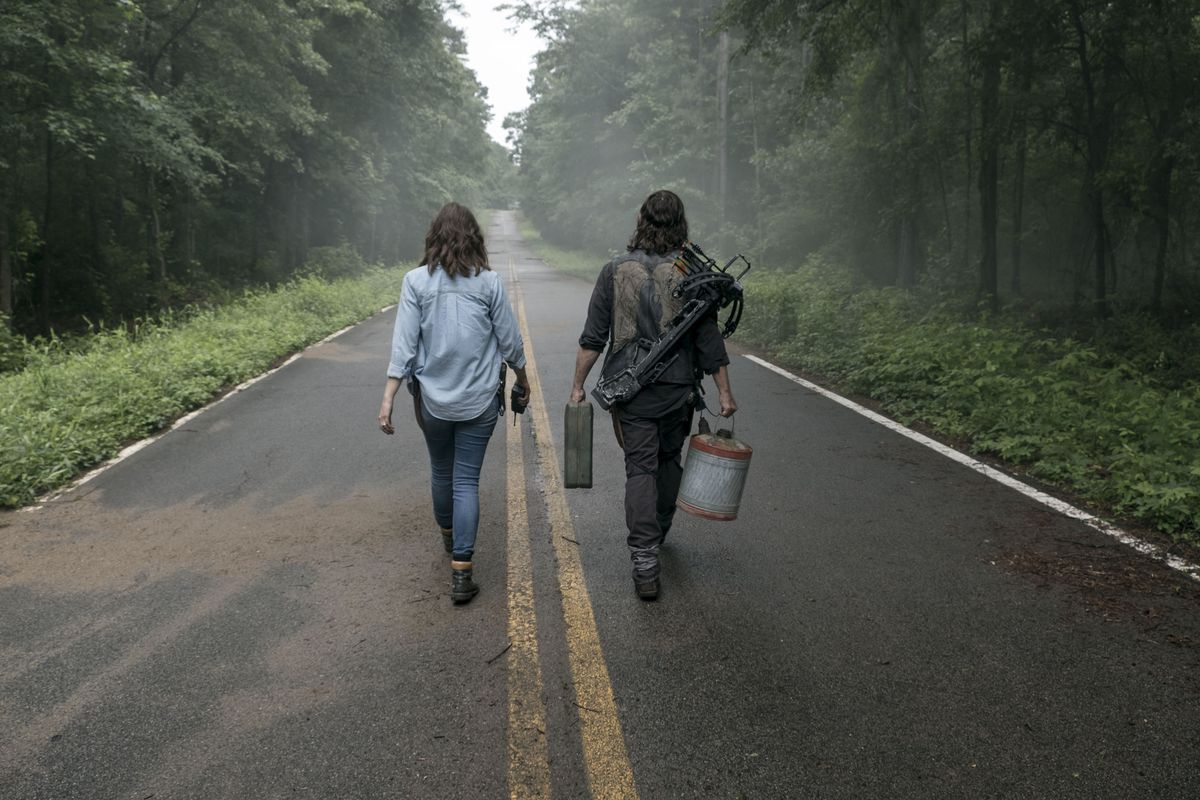feet: (612, 513, 695, 608), (424, 517, 487, 604)
